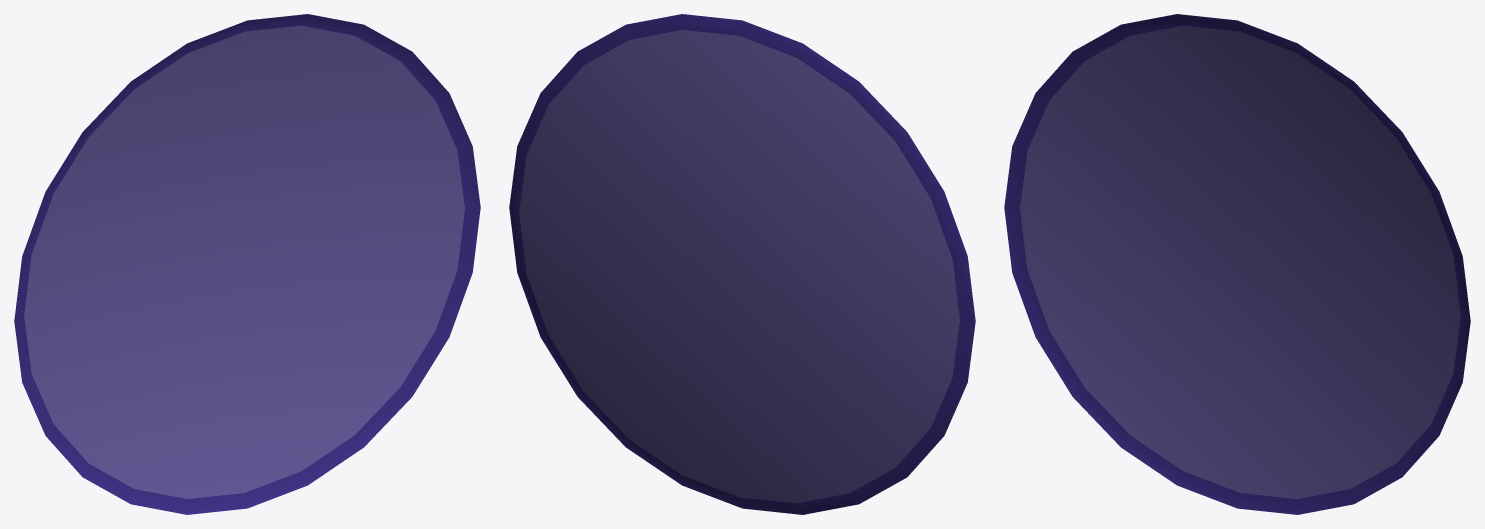
File: Demo Ground.FBX
3 renders of one model, left to right at view 1: azimuth 30°, elevation 25°; view 2: azimuth 150°, elevation 25°; view 3: azimuth 330°, elevation 25°, orthographic.
Visible parts, largest first — view 1: Carpet 01; view 2: Carpet 01; view 3: Carpet 01.
Boxes of the visible parts, box(x1,y1,x2,y2) form: Carpet 01: box(14, 14, 480, 514); Carpet 01: box(509, 14, 975, 514); Carpet 01: box(1004, 14, 1470, 514).
Bounding box in the file's own units: 422 × 422 × 4.58.
